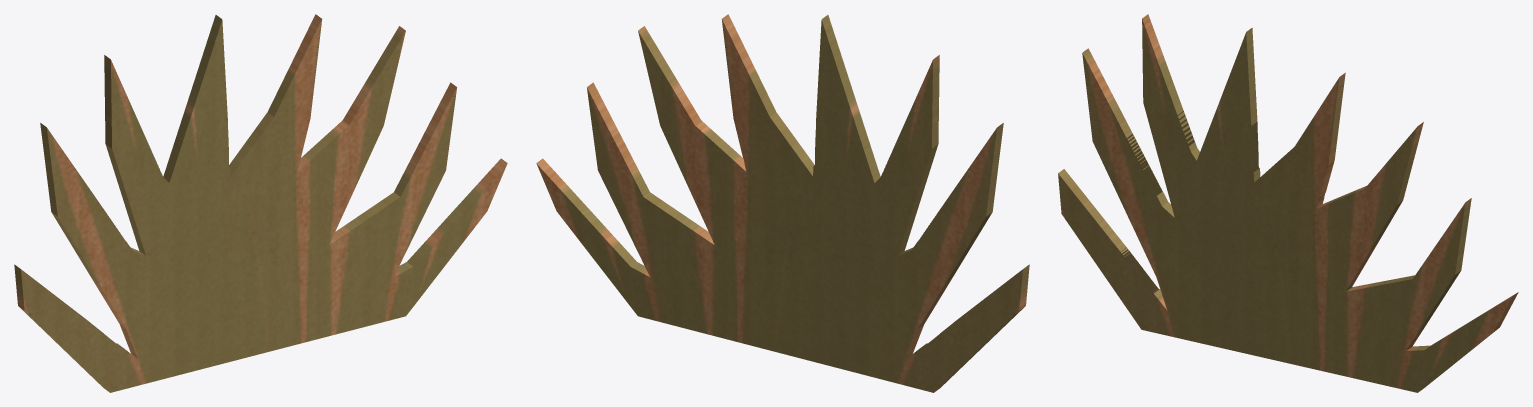
File: bush_1.FBX
The picture shows the model from 3 angles, left to right: view 1: azimuth 30°, elevation 25°; view 2: azimuth 150°, elevation 25°; view 3: azimuth 330°, elevation 25°; orthographic projection. The views are drawn at different scales.
Parts seen in each view (by area): view 1: bush_1; view 2: bush_1; view 3: bush_1.
Part boxes in pixels (x1,y1,x2,y2): bush_1: [14, 14, 507, 392]; bush_1: [536, 14, 1029, 392]; bush_1: [1058, 14, 1518, 392].
Bounding box in the file's own units: 296 × 201 × 7.
1 material, 1 textured.
